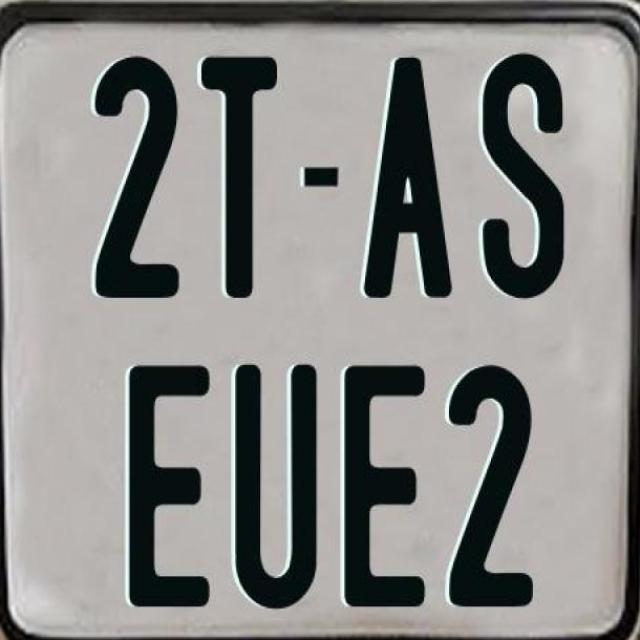license-plate: (4, 14, 632, 640)
